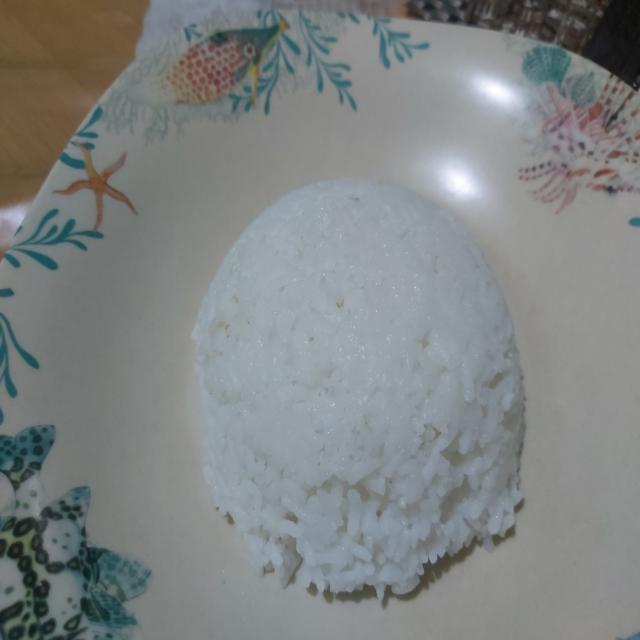Chicken -Chicken Inasal-: (191, 172, 528, 590)
